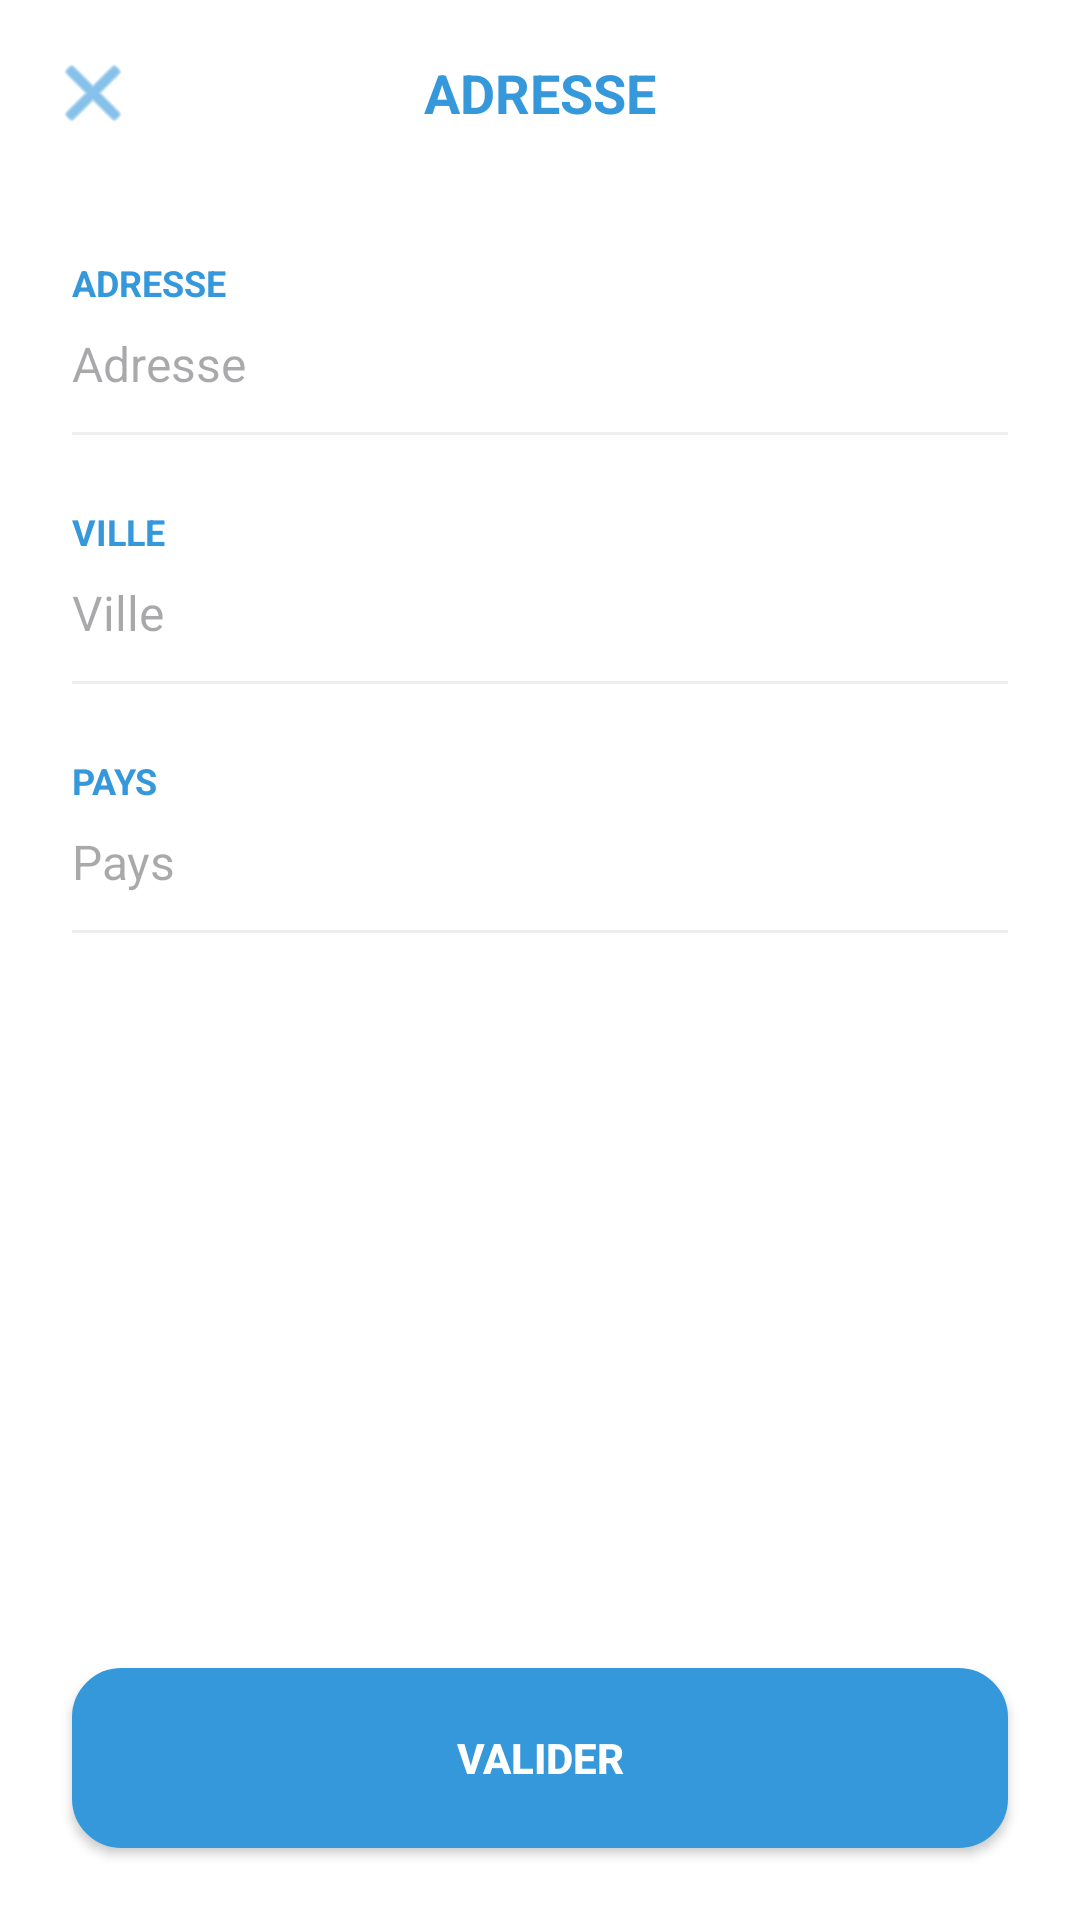

Screen size 1080 × 1920. Icon name, then its center in pixels as point (x, y):
close clear cancel: point (93, 93)
